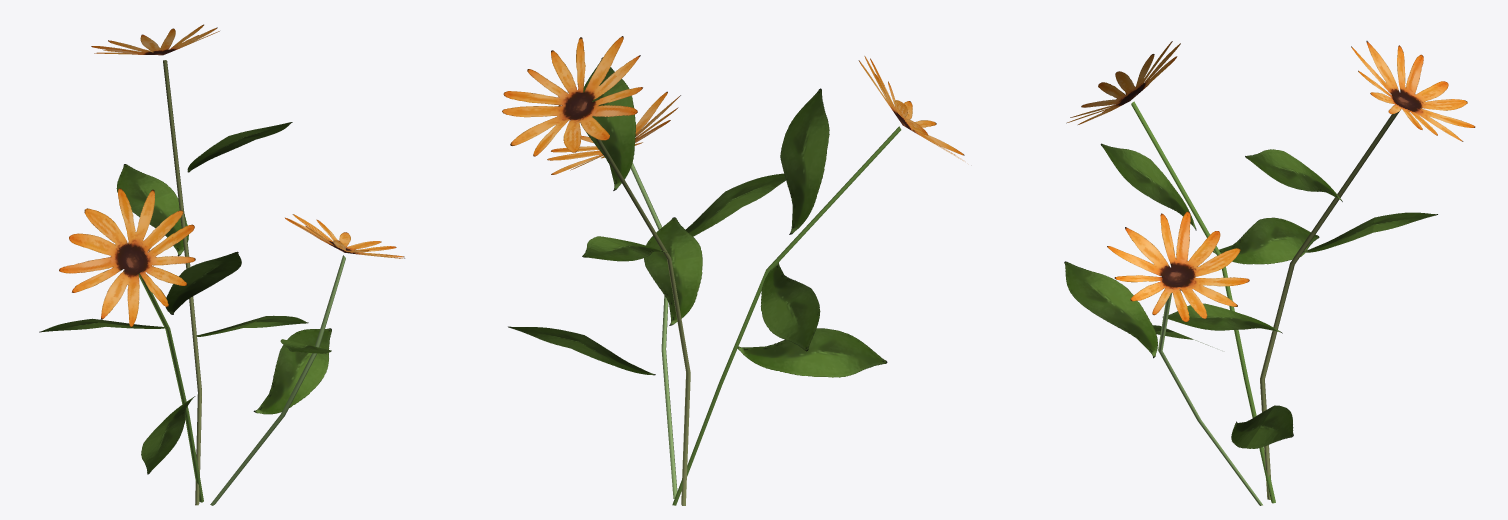
3 views of the same model, side by side, from view 1: azimuth 30°, elevation 25°; view 2: azimuth 150°, elevation 25°; view 3: azimuth 270°, elevation 25° (orthographic). The views are drawn at different scales.
Visible parts, largest first — view 1: F13; view 2: F13; view 3: F13.
Part boxes in pixels (x1,y1,x2,y2): F13: [39, 24, 404, 505]; F13: [502, 36, 964, 505]; F13: [1064, 41, 1475, 505].
Bounding box in the file's own units: 191 × 219 × 192.
